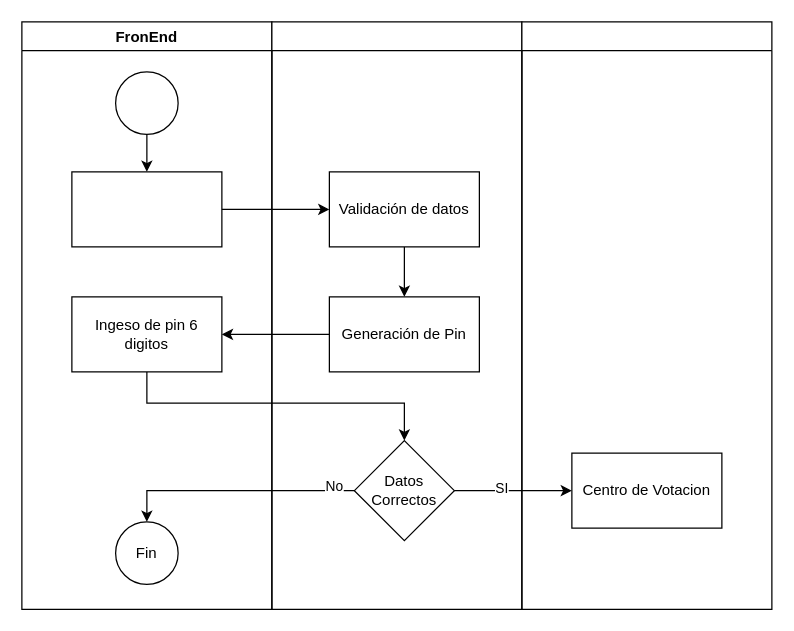
Some shapes in this 794 by 631 pixel diagram are drawn without their labels. The shapes that lost their labels are listed below. From the top down, each one's box as (x1, y1, x2, y2) in pixels, then its label:
(114, 71, 178, 134): Inicio
(71, 171, 222, 247): Ingreseso de usuario y contraseña
(271, 21, 522, 609): Backend (Autenticacion)
(521, 21, 772, 609): FrontEnd (Principal)
